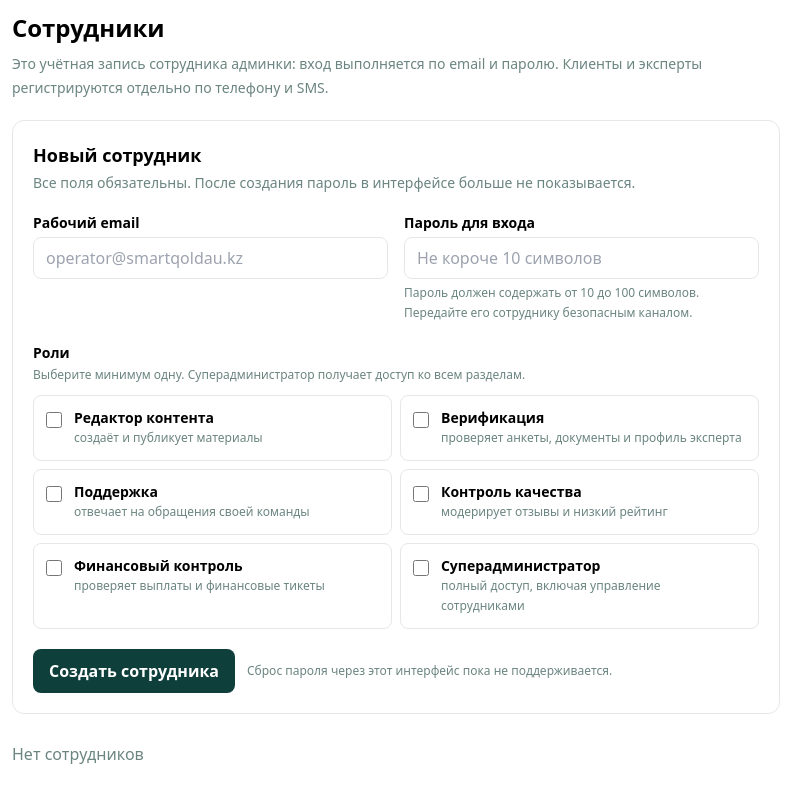
Test: StaffPage › до запроса объясняет ограничения и не отправляет неверные данные
Expected: the text "Нет сотрудников" is shown, [12,743,144,765]
Expected: the text "Пароль должен содержать от 10 до 100 символов" is shown, [404,284,699,321]
Type "not-email" into the field labelled "Рабочий email" at (210, 258), box [33,237,388,279]
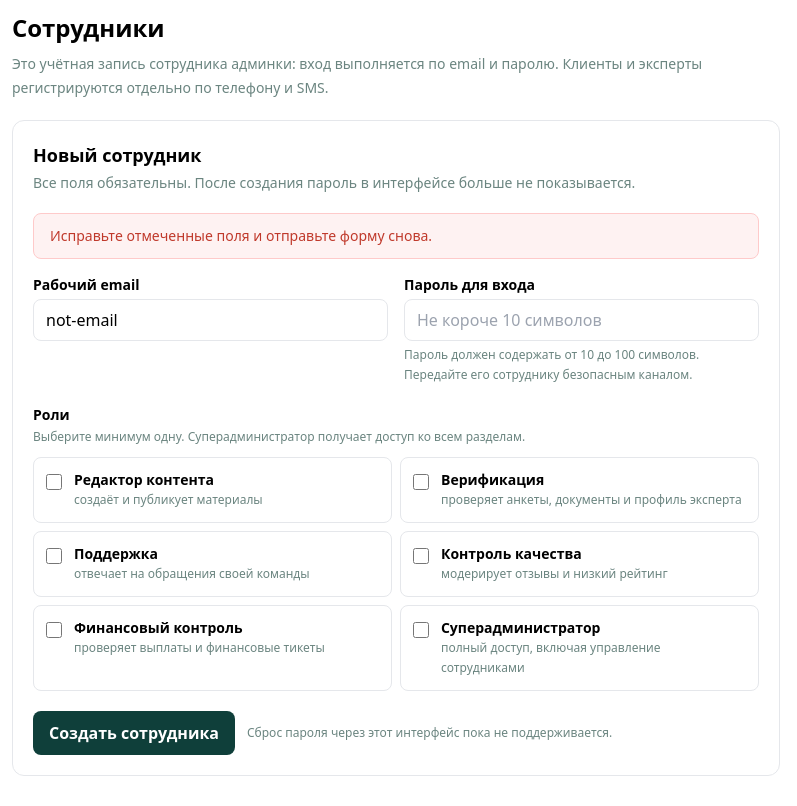
Type "short" into the password field labelled "Пароль для входа" at (582, 320), box [404,299,759,341]
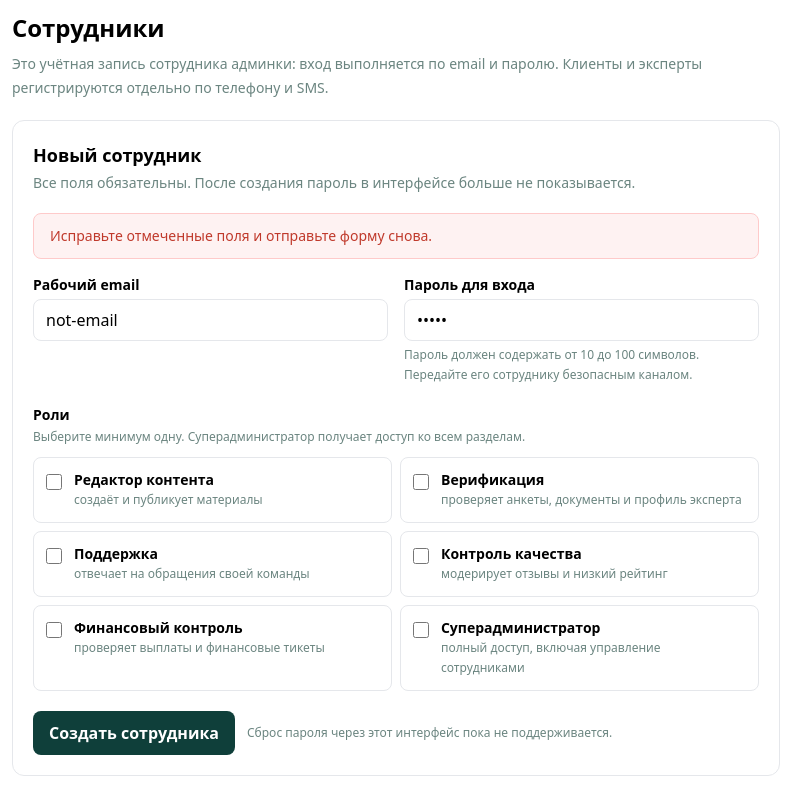
Click the button "Создать сотрудника" at (134, 733), box [33,711,235,755]
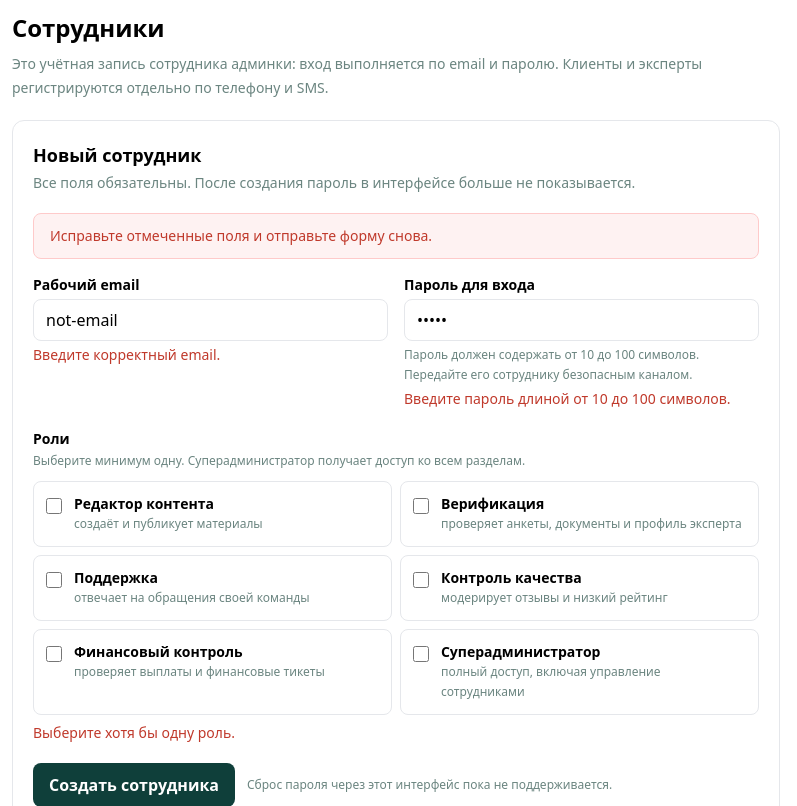
Now the text "Введите корректный email." is shown, box [33,345,220,364]
Now the text "Введите пароль длиной от 10 до 100 символов." is shown, box [404,389,759,409]
Now the text "Выберите хотя бы одну роль." is shown, box [33,723,235,742]
